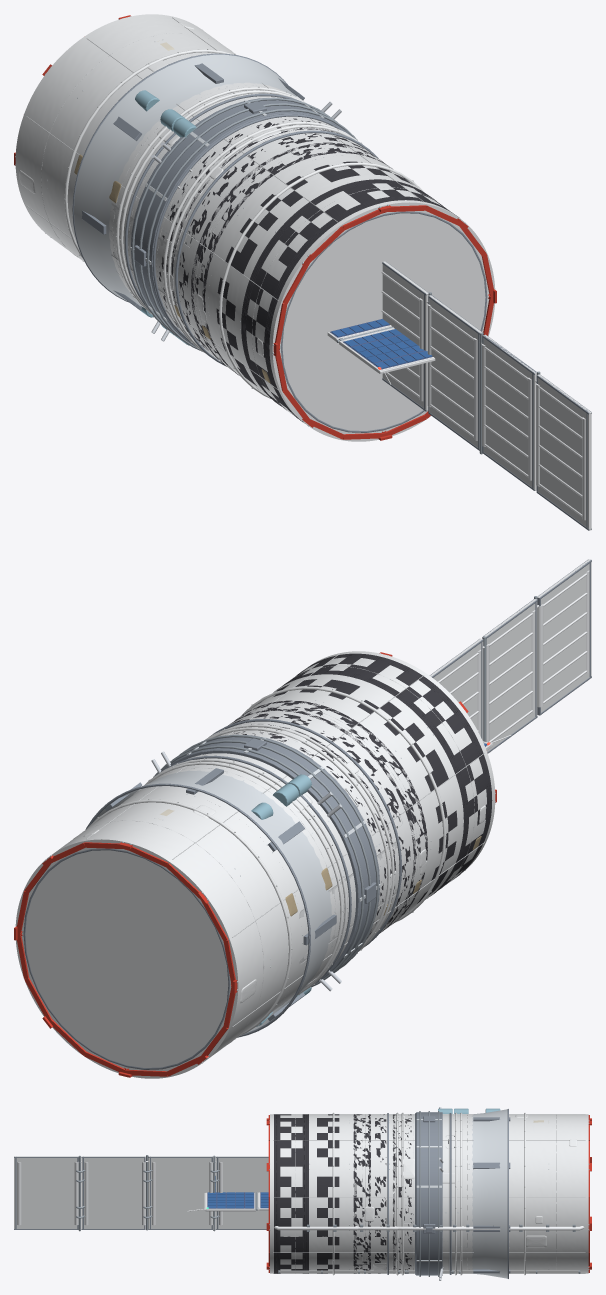
Rendered from ship-modules.glb.
The picture shows the model from 3 angles, top to bottom: view 1: azimuth 30°, elevation 25°; view 2: azimuth 150°, elevation 25°; view 3: azimuth 270°, elevation 25°; orthographic projection. The views are drawn at different scales.
Visible parts, largest first — view 1: tank_hull (×3), booster_casing, module:tank-12-main, panel5, panel4, module:booster-standard, armor_hull, panel3, module:tank-6-main, rcs_red_box_truss, module:armor-standard, panel2 (+8 smaller); view 2: tank_hull (×3), module:tank-12-main, booster_casing, armor_hull, panel4, panel5, module:tank-6-main, module:booster-standard, rcs_red_box_truss, module:armor-standard, tank_surface_panels (×2), anchorpanel-hinge4 (+4 smaller); view 3: tank_hull (×3), booster_casing, panel5, panel4, panel3, module:tank-12-main, armor_hull, panel2, module:tank-6-main, module:booster-standard, cryo_feedline (×2), tank_surface_panels (×2) (+11 smaller).
Part boxes in pixels (box(x1,y1,x2,y2)): tank_hull (×3): box(15, 14, 495, 441); booster_casing: box(72, 53, 314, 306); module:tank-12-main: box(26, 17, 487, 432); panel5: box(538, 374, 591, 530); panel4: box(483, 334, 536, 490); module:booster-standard: box(72, 53, 378, 366); armor_hull: box(131, 97, 350, 346); panel3: box(429, 295, 482, 448); module:tank-6-main: box(117, 83, 392, 375); rcs_red_box_truss: box(14, 15, 496, 440); module:armor-standard: box(130, 97, 356, 351); panel2: box(382, 261, 428, 411); tank_hull (×3): box(15, 651, 495, 1078); module:tank-12-main: box(23, 654, 491, 1069); booster_casing: box(85, 721, 381, 1037); armor_hull: box(161, 734, 379, 983); panel4: box(484, 599, 537, 751); panel5: box(537, 559, 591, 715); module:tank-6-main: box(124, 700, 427, 1005); module:booster-standard: box(85, 719, 402, 1037); rcs_red_box_truss: box(14, 652, 496, 1077); module:armor-standard: box(154, 734, 380, 987); tank_surface_panels (×2): box(83, 728, 486, 1002); anchorpanel-hinge4: box(482, 610, 535, 742); tank_hull (×3): box(270, 1114, 588, 1273); booster_casing: box(389, 1109, 507, 1278); panel5: box(14, 1156, 78, 1228); panel4: box(81, 1156, 145, 1228); panel3: box(148, 1156, 212, 1228); module:tank-12-main: box(273, 1108, 585, 1275); armor_hull: box(416, 1112, 442, 1275); panel2: box(215, 1156, 268, 1228); module:tank-6-main: box(353, 1108, 493, 1275); module:booster-standard: box(387, 1109, 510, 1278); cryo_feedline (×2): box(274, 1226, 584, 1230); tank_surface_panels (×2): box(364, 1114, 577, 1273).
Bounding box in the file's own units: 6.45 × 6.42 × 21.75.
